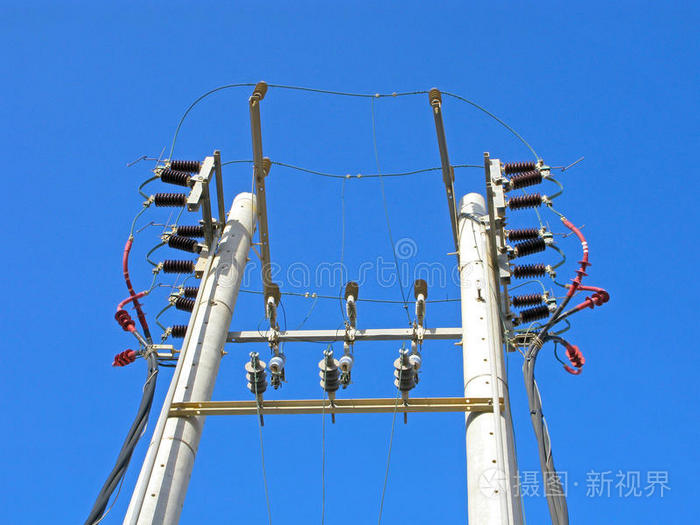insulator: (393, 357, 416, 392), (319, 357, 340, 393), (245, 362, 269, 393), (570, 259, 591, 286), (113, 308, 134, 330), (564, 345, 585, 367), (113, 350, 134, 369), (587, 291, 611, 307)
